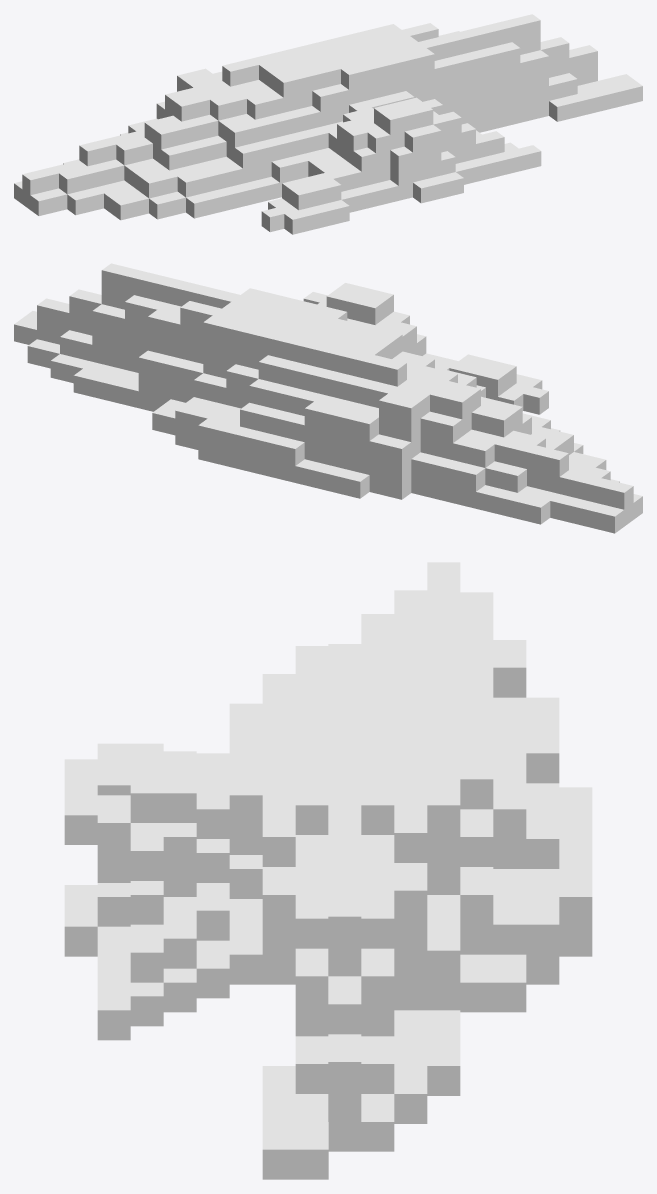
Rendered from cloud1.obj.
The picture shows the model from 3 angles, top to bottom: view 1: azimuth 30°, elevation 25°; view 2: azimuth 150°, elevation 25°; view 3: azimuth 270°, elevation 25°; orthographic projection. The views are drawn at different scales.
Size of the model in its own units: 40 by 6 by 16.
1 material, 1 textured.
